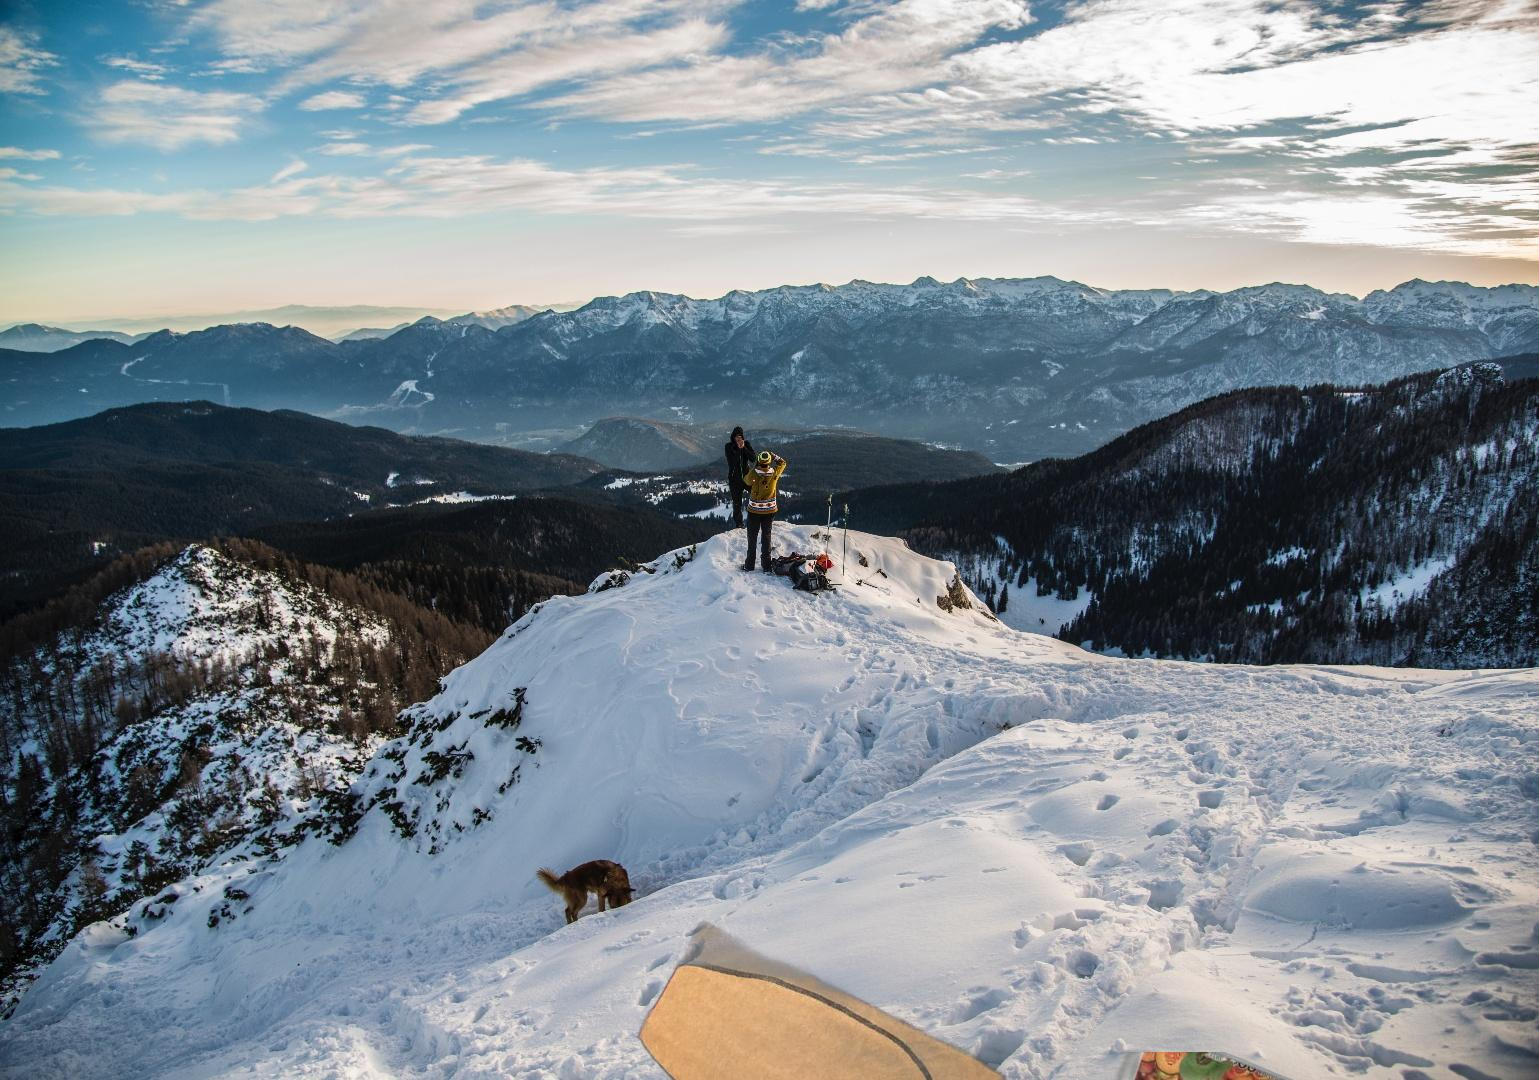paper: (1045, 1052, 1472, 1080)
trashbox-cardboard: (511, 919, 1111, 1080)
